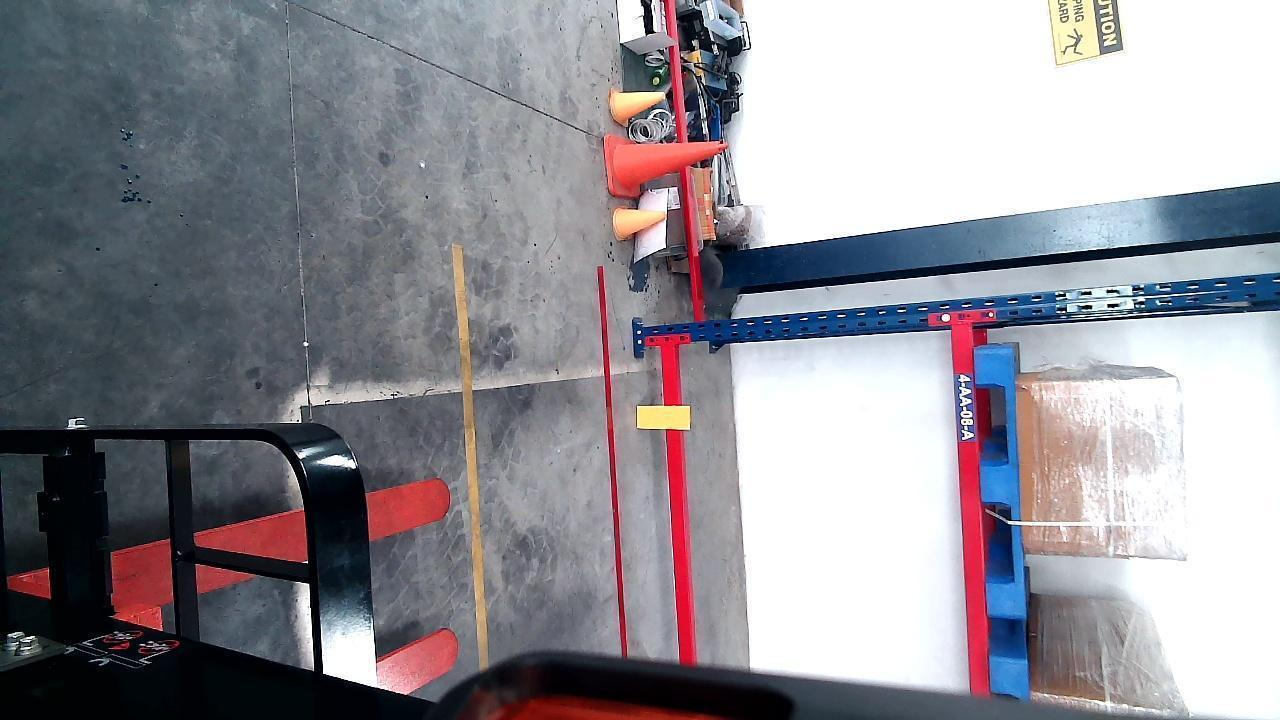red_line: (596, 262, 632, 653)
yellow_line: (452, 242, 490, 668)
